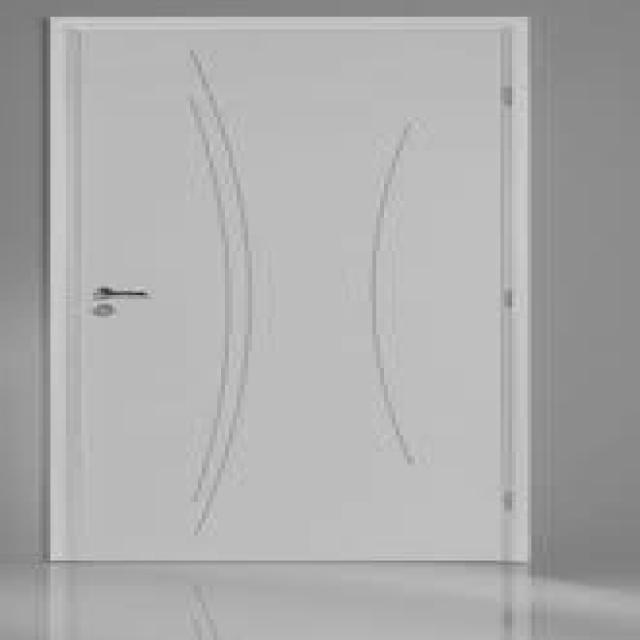door: (28, 8, 540, 583)
